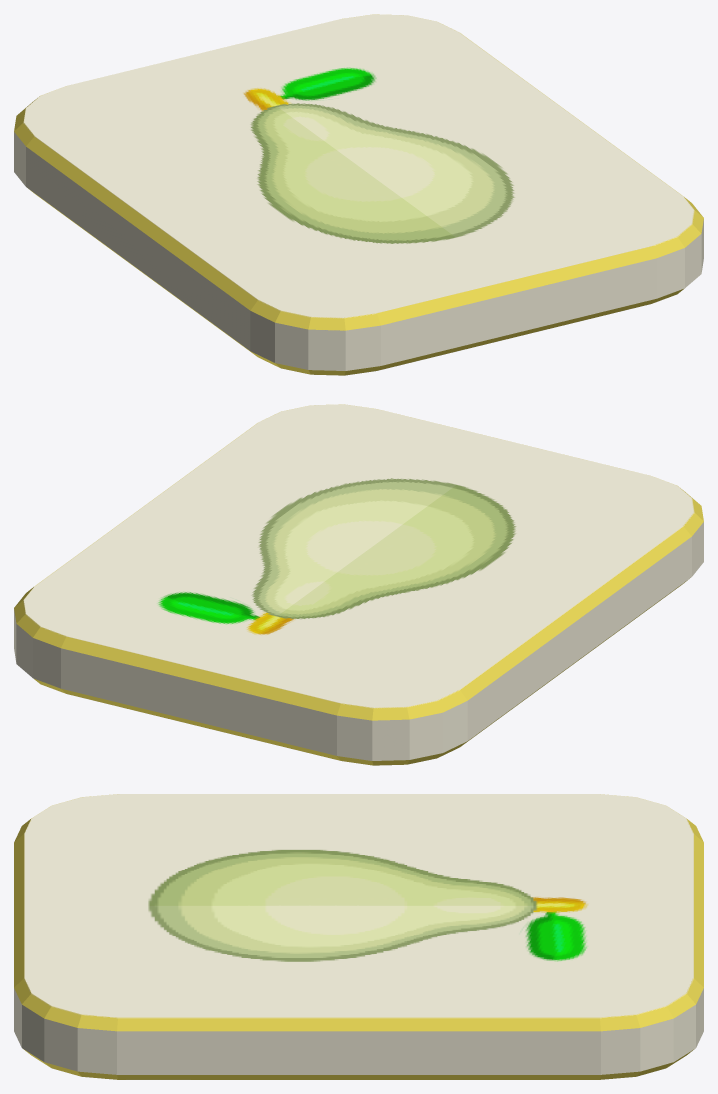
File: memory_card_4.fbx
The picture shows the model from 3 angles, top to bottom: view 1: azimuth 30°, elevation 25°; view 2: azimuth 150°, elevation 25°; view 3: azimuth 270°, elevation 25°; orthographic projection. The views are drawn at different scales.
Visible parts, largest first — view 1: Card4; view 2: Card4; view 3: Card4.
Part boxes in pixels (x1,y1,x2,y2): Card4: [14, 14, 703, 375]; Card4: [14, 404, 703, 765]; Card4: [14, 794, 703, 1079].
Bounding box in the file's own units: 40 × 5 × 50.22.
